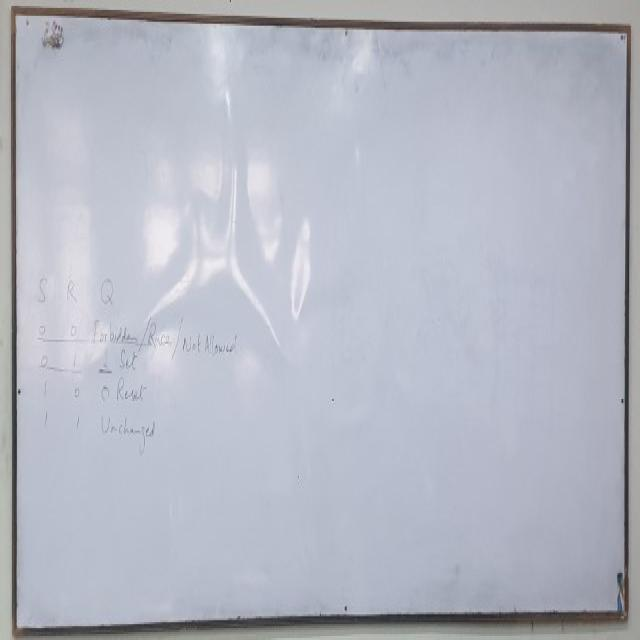White-board: (13, 9, 628, 632)
